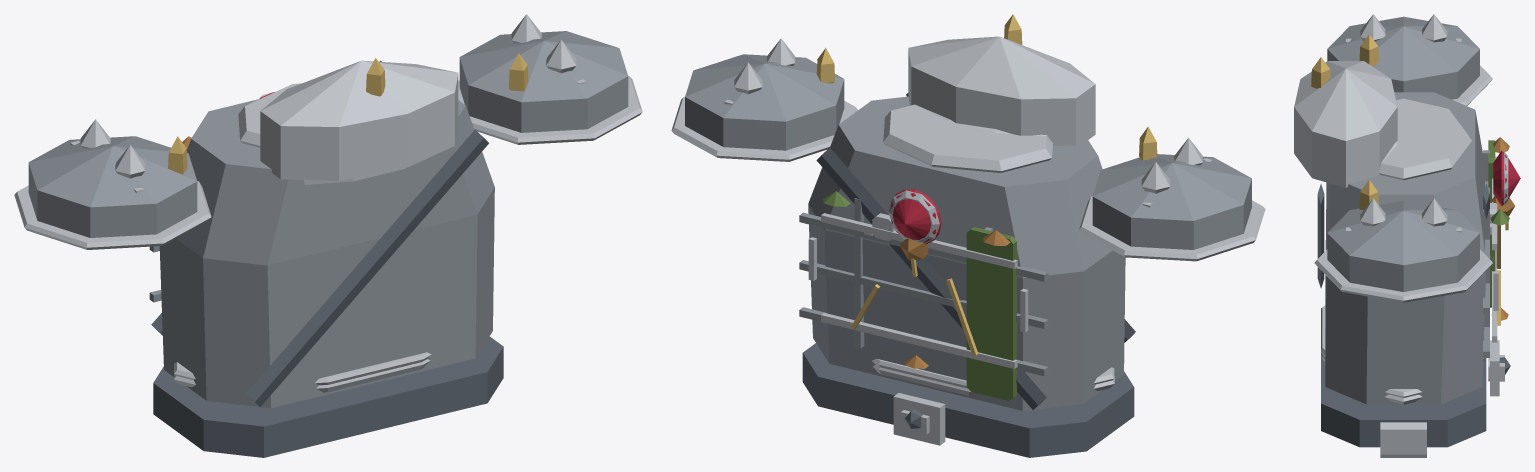
The model's file is armor_bow_s5.fbx.
3 views of the same model, side by side, from view 1: azimuth 30°, elevation 25°; view 2: azimuth 150°, elevation 25°; view 3: azimuth 270°, elevation 25° (orthographic). The views are drawn at different scales.
Parts seen in each view (by area): view 1: Chest_Body, Chest_Inner, Chest_Trim, Shoulder_L_Body, Shoulder_R_Body, Shoulder_L_Trim, Shoulder_R_Trim, Chest_Crack_Tr, Chest_Trim_Ep; view 2: Chest_Body, Chest_Trim, Chest_Inner, Shoulder_L_Body, Shoulder_R_Body, Chest_Attach, Shoulder_L_Trim, Shoulder_R_Trim, Chest_Crack_Tr, Chest_CoreGem, Chest_Trim_Ep; view 3: Chest_Body, Chest_Trim, Shoulder_R_Body, Chest_Inner, Shoulder_L_Body, Shoulder_R_Trim, Chest_Crack_Tr, Shoulder_L_Trim, Chest_CoreGem, Chest_Attach, Chest_Trim_Ep, Chest_Gem_Ep.
Boxes of the visible parts, x1=… form: Chest_Body: x1=149, y1=98, x2=494, y2=408; Chest_Inner: x1=151, y1=60, x2=503, y2=457; Chest_Trim: x1=174, y1=60, x2=458, y2=392; Shoulder_L_Body: x1=28, y1=136, x2=197, y2=237; Shoulder_R_Body: x1=459, y1=31, x2=628, y2=132; Shoulder_L_Trim: x1=14, y1=119, x2=211, y2=249; Shoulder_R_Trim: x1=458, y1=14, x2=642, y2=144; Chest_Crack_Tr: x1=168, y1=53, x2=528, y2=174; Chest_Trim_Ep: x1=174, y1=352, x2=431, y2=385; Chest_Body: x1=799, y1=96, x2=1125, y2=410; Chest_Trim: x1=808, y1=36, x2=1114, y2=445; Chest_Inner: x1=802, y1=93, x2=1135, y2=457; Shoulder_L_Body: x1=1092, y1=154, x2=1251, y2=249; Shoulder_R_Body: x1=685, y1=54, x2=844, y2=150; Chest_Attach: x1=823, y1=191, x2=1016, y2=400; Shoulder_L_Trim: x1=1079, y1=138, x2=1265, y2=261; Shoulder_R_Trim: x1=671, y1=38, x2=857, y2=161; Chest_Crack_Tr: x1=816, y1=14, x2=1157, y2=355; Chest_CoreGem: x1=891, y1=189, x2=941, y2=244; Chest_Trim_Ep: x1=872, y1=358, x2=1114, y2=388; Chest_Body: x1=1325, y1=92, x2=1489, y2=404; Chest_Trim: x1=1294, y1=61, x2=1508, y2=457; Shoulder_R_Body: x1=1327, y1=200, x2=1479, y2=291; Chest_Inner: x1=1317, y1=184, x2=1510, y2=447; Shoulder_L_Body: x1=1327, y1=16, x2=1479, y2=99; Shoulder_R_Trim: x1=1314, y1=198, x2=1492, y2=302; Chest_Crack_Tr: x1=1311, y1=34, x2=1508, y2=325; Shoulder_L_Trim: x1=1346, y1=14, x2=1492, y2=105; Chest_CoreGem: x1=1493, y1=150, x2=1520, y2=205; Chest_Attach: x1=1488, y1=140, x2=1509, y2=307; Chest_Trim_Ep: x1=1321, y1=305, x2=1422, y2=397; Chest_Gem_Ep: x1=1491, y1=137, x2=1509, y2=320.
Bounding box in the file's own units: 446 × 270 × 165.
